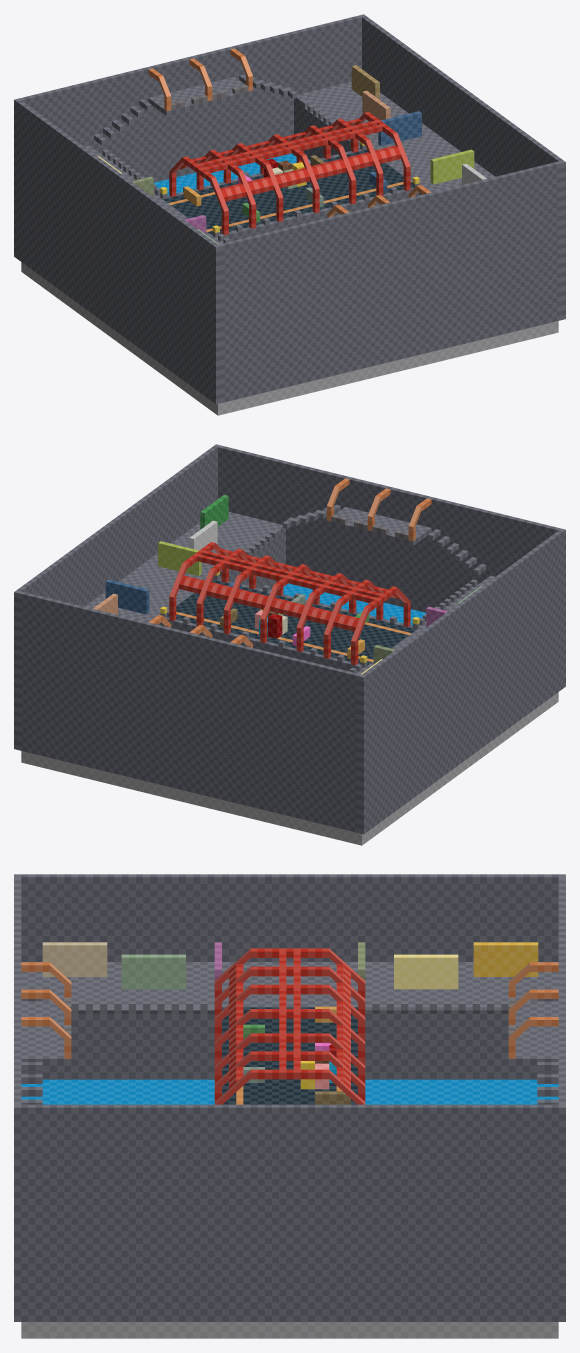
Rendered from Bridge.gltf.
3 renders of one model, top to bottom at view 1: azimuth 30°, elevation 25°; view 2: azimuth 150°, elevation 25°; view 3: azimuth 270°, elevation 25°, orthographic. The views are drawn at different scales.
Visible parts, largest first — view 1: Brick (×17), Base, Water; view 2: Brick (×18), Base, Water; view 3: Brick (×25), Water, Base.
Part boxes in pixels (x1,y1,x2,y2): Brick (×17): (14,14,565,404); Base: (21,262,558,415); Water: (153,153,309,195); Brick (×18): (14,444,565,834); Base: (21,692,558,845); Water: (270,583,426,625); Brick (×25): (14,874,565,1321); Water: (21,1079,558,1104); Base: (21,1322,558,1338).
Size of the model in its own units: 308 by 144 by 308.
